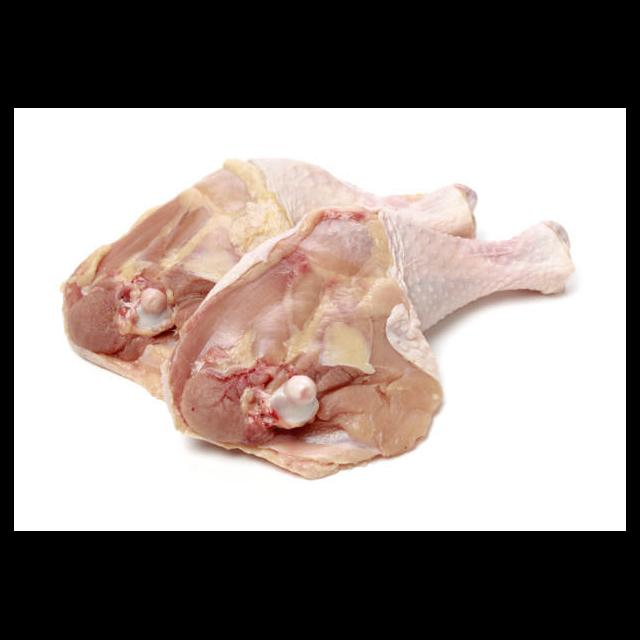chicken: (58, 157, 576, 483)
